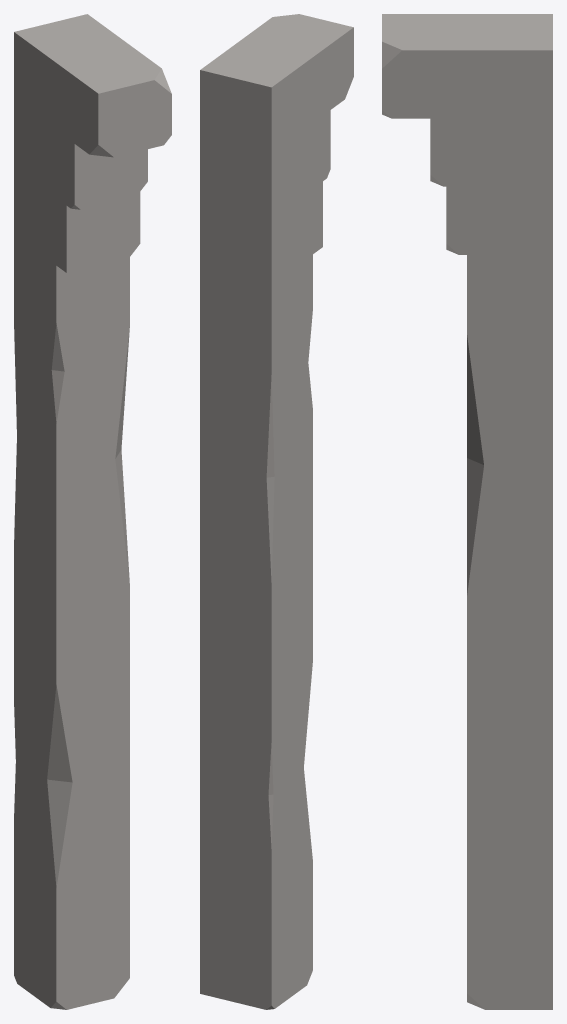
Rendered from SM_Env_Pillar_10.fbx.
3 views of the same model, side by side, from view 1: azimuth 30°, elevation 25°; view 2: azimuth 150°, elevation 25°; view 3: azimuth 270°, elevation 25° (orthographic). The views are drawn at different scales.
Visible parts, largest first — view 1: SM_Env_Pillar_10; view 2: SM_Env_Pillar_10; view 3: SM_Env_Pillar_10.
Part boxes in pixels (box(x1,y1,x2,y2)): SM_Env_Pillar_10: box(14, 14, 171, 1009); SM_Env_Pillar_10: box(200, 14, 353, 1009); SM_Env_Pillar_10: box(382, 14, 552, 1009).
Bounding box in the file's own units: 16.35 × 202 × 32.54.
Materials: 1 (1 with a texture image).
